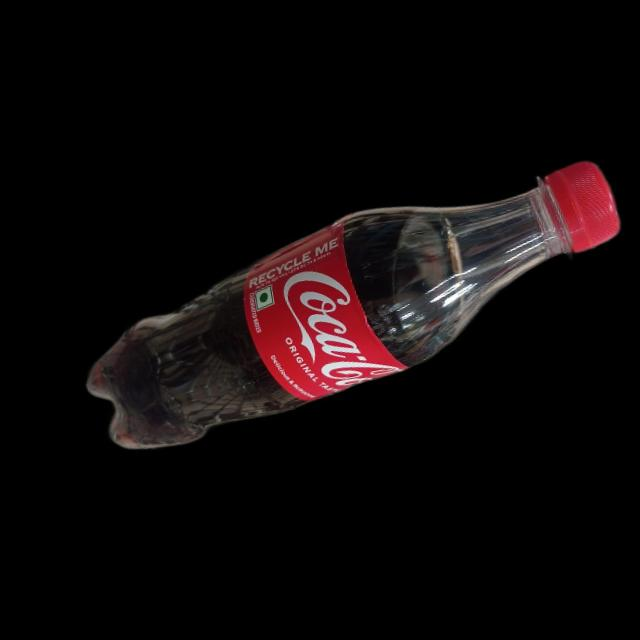Coca-Cola-600 ml-: (60, 154, 640, 472)
